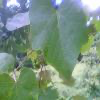grape leaf: (29, 0, 91, 81)
